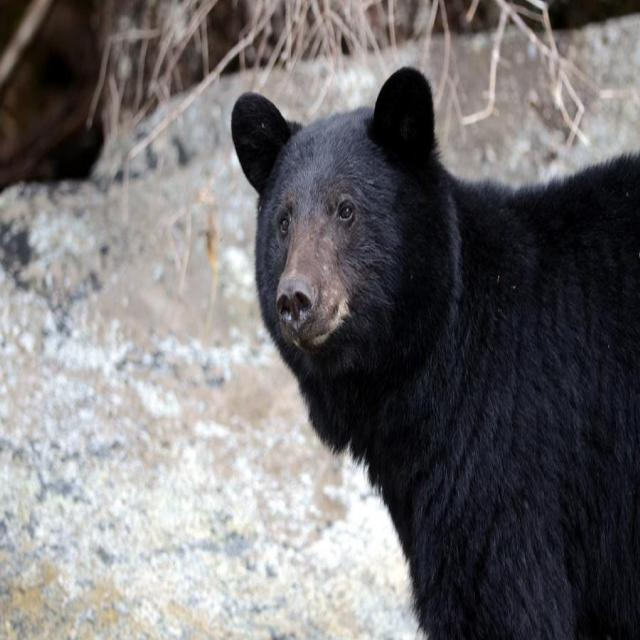Bear: (229, 68, 640, 640)
